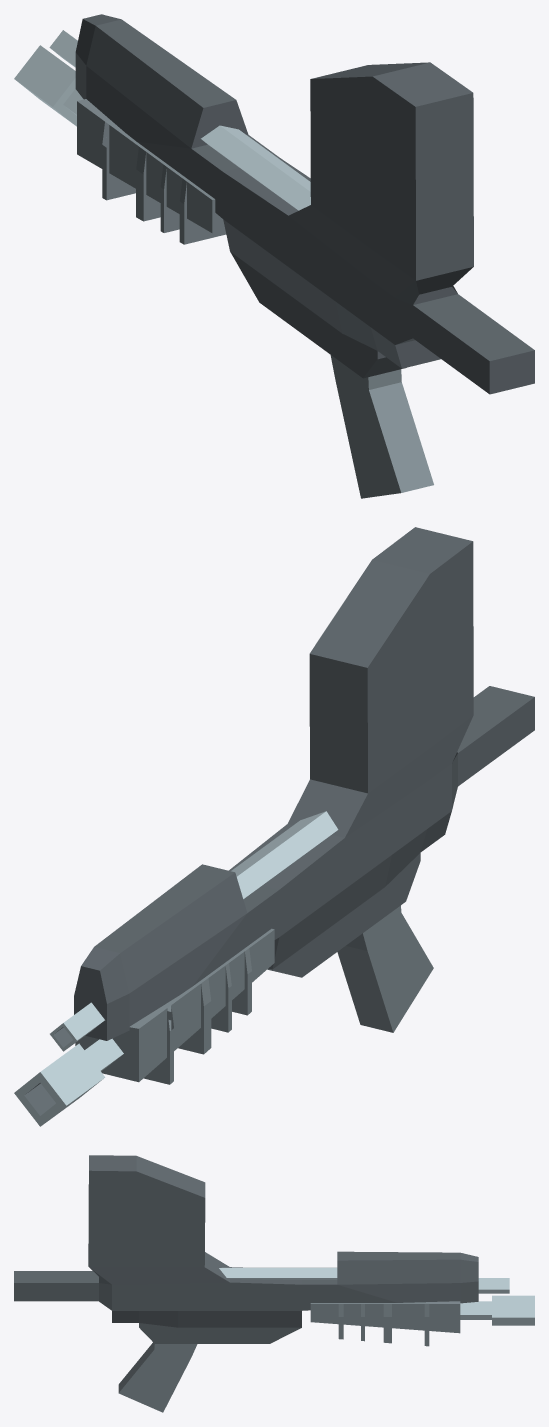
The picture shows the model from 3 angles, top to bottom: view 1: azimuth 30°, elevation 25°; view 2: azimuth 150°, elevation 25°; view 3: azimuth 270°, elevation 25°; orthographic projection. The views are drawn at different scales.
Parts seen in each view (by area): view 1: mp5; view 2: mp5; view 3: mp5.
Boxes of the visible parts, x1,y1,x2,y2 form: mp5: (14, 14, 534, 498); mp5: (14, 527, 534, 1126); mp5: (14, 1155, 534, 1412).
Size of the model in its own units: 0.403 by 2.48 by 4.77.
